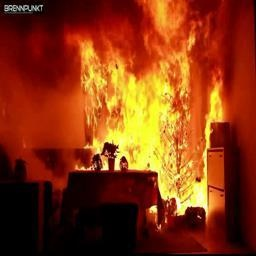fire: (57, 8, 233, 240)
